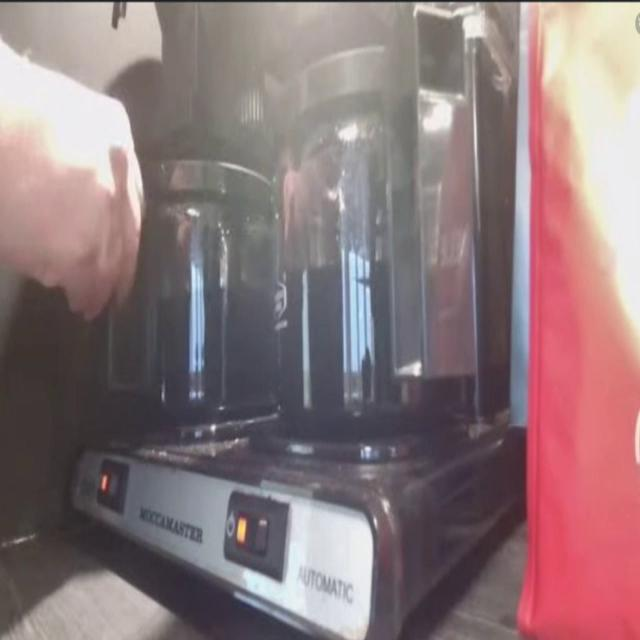coffee: (282, 156, 444, 431), (156, 207, 270, 416)
